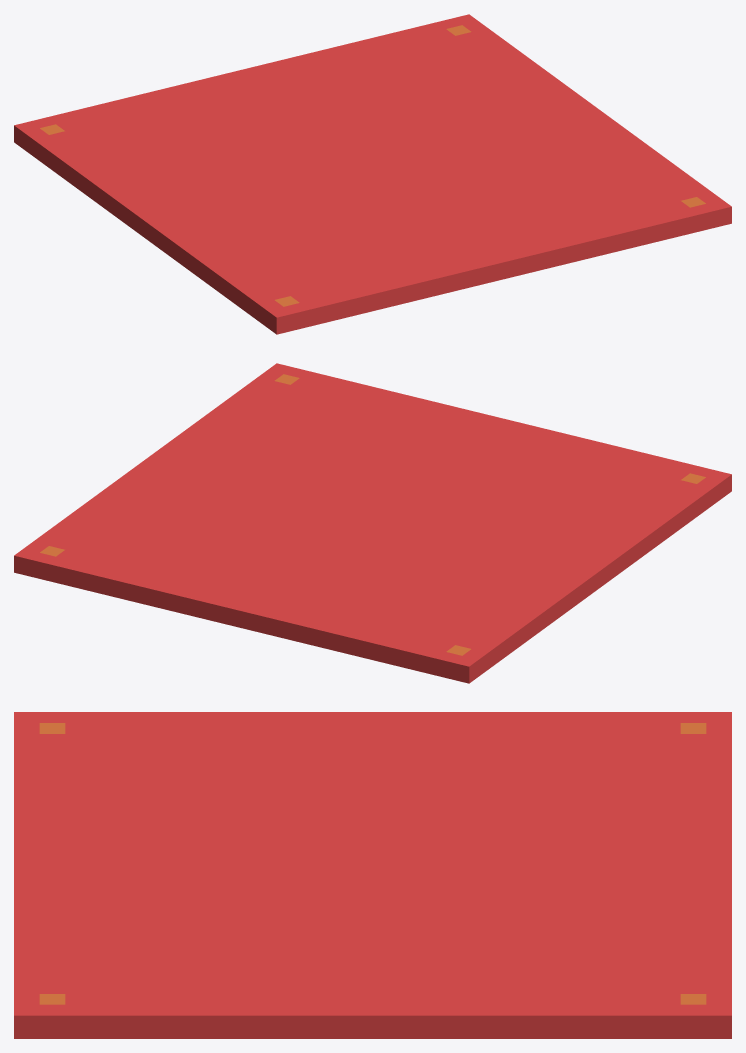
File: Button-0.obj
3 views of the same model, one above another, from view 1: azimuth 30°, elevation 25°; view 2: azimuth 150°, elevation 25°; view 3: azimuth 270°, elevation 25° (orthographic). The views are drawn at different scales.
Size of the model in its own units: 2.8 by 0.4 by 2.8.
